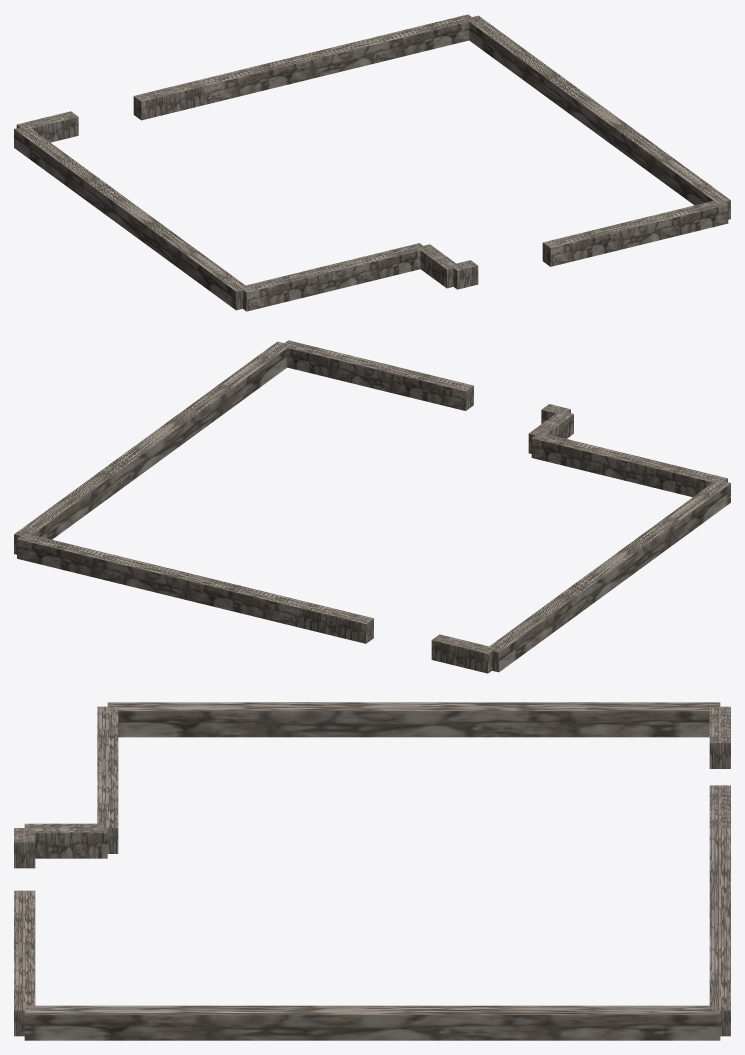
The model's file is BW_Inn01_Foundation.fbx.
The picture shows the model from 3 angles, top to bottom: view 1: azimuth 30°, elevation 25°; view 2: azimuth 150°, elevation 25°; view 3: azimuth 270°, elevation 25°; orthographic projection. The views are drawn at different scales.
Visible parts, largest first — view 1: BW_Inn01_Foundation; view 2: BW_Inn01_Foundation; view 3: BW_Inn01_Foundation.
Part boxes in pixels (bbox=[...]): BW_Inn01_Foundation: bbox=[14, 14, 730, 311]; BW_Inn01_Foundation: bbox=[14, 340, 730, 673]; BW_Inn01_Foundation: bbox=[14, 702, 730, 1040].
Bounding box in the file's own units: 9.78 × 0.38 × 9.48.
